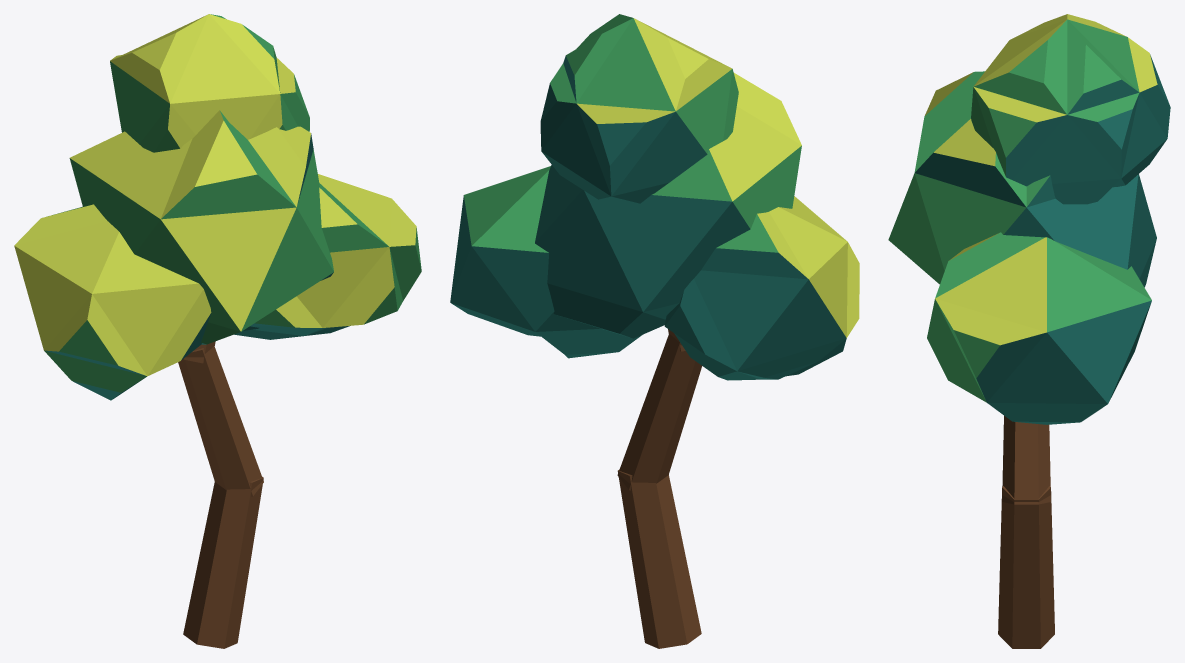
The model's file is Agac_Fidan_v2.fbx.
3 views of the same model, side by side, from view 1: azimuth 30°, elevation 25°; view 2: azimuth 150°, elevation 25°; view 3: azimuth 270°, elevation 25° (orthographic). The views are drawn at different scales.
Visible parts, largest first — view 1: Agac_Fidan; view 2: Agac_Fidan; view 3: Agac_Fidan.
Part boxes in pixels (x1,y1,x2,y2): Agac_Fidan: (14,14,421,648); Agac_Fidan: (450,14,859,648); Agac_Fidan: (888,14,1170,648).
Size of the model in its own units: 105 by 170 by 69.27.
